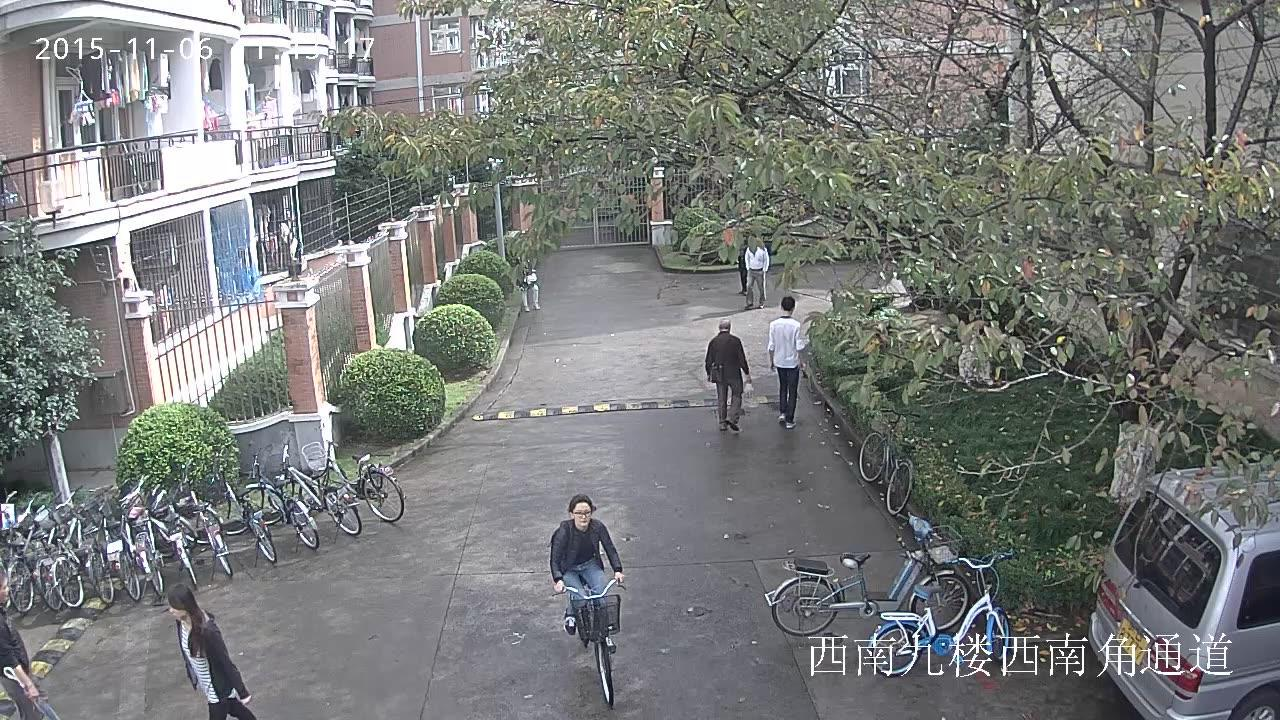person: (549, 494, 625, 707), (165, 582, 256, 720), (549, 494, 623, 654), (0, 576, 47, 720), (704, 318, 750, 434), (767, 296, 805, 428), (745, 235, 769, 310), (737, 236, 746, 296)
